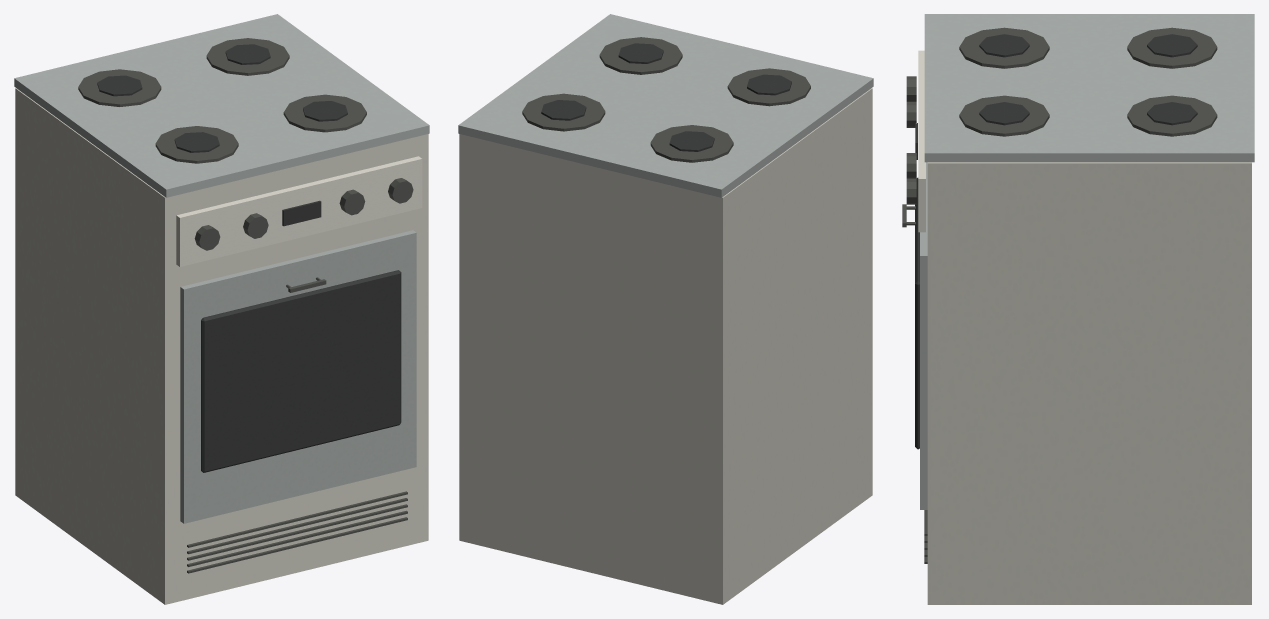
The model's file is stove.glb.
3 views of the same model, side by side, from view 1: azimuth 30°, elevation 25°; view 2: azimuth 150°, elevation 25°; view 3: azimuth 270°, elevation 25° (orthographic). The views are drawn at different scales.
Visible parts, largest first — view 1: home_stove; view 2: home_stove; view 3: home_stove.
Boxes of the visible parts, x1,y1,x2,y2 form: home_stove: (14, 14, 429, 604); home_stove: (458, 14, 873, 604); home_stove: (902, 14, 1254, 604).
Size of the model in its own units: 0.6 by 0.916 by 0.641.
1 material, 1 textured.
